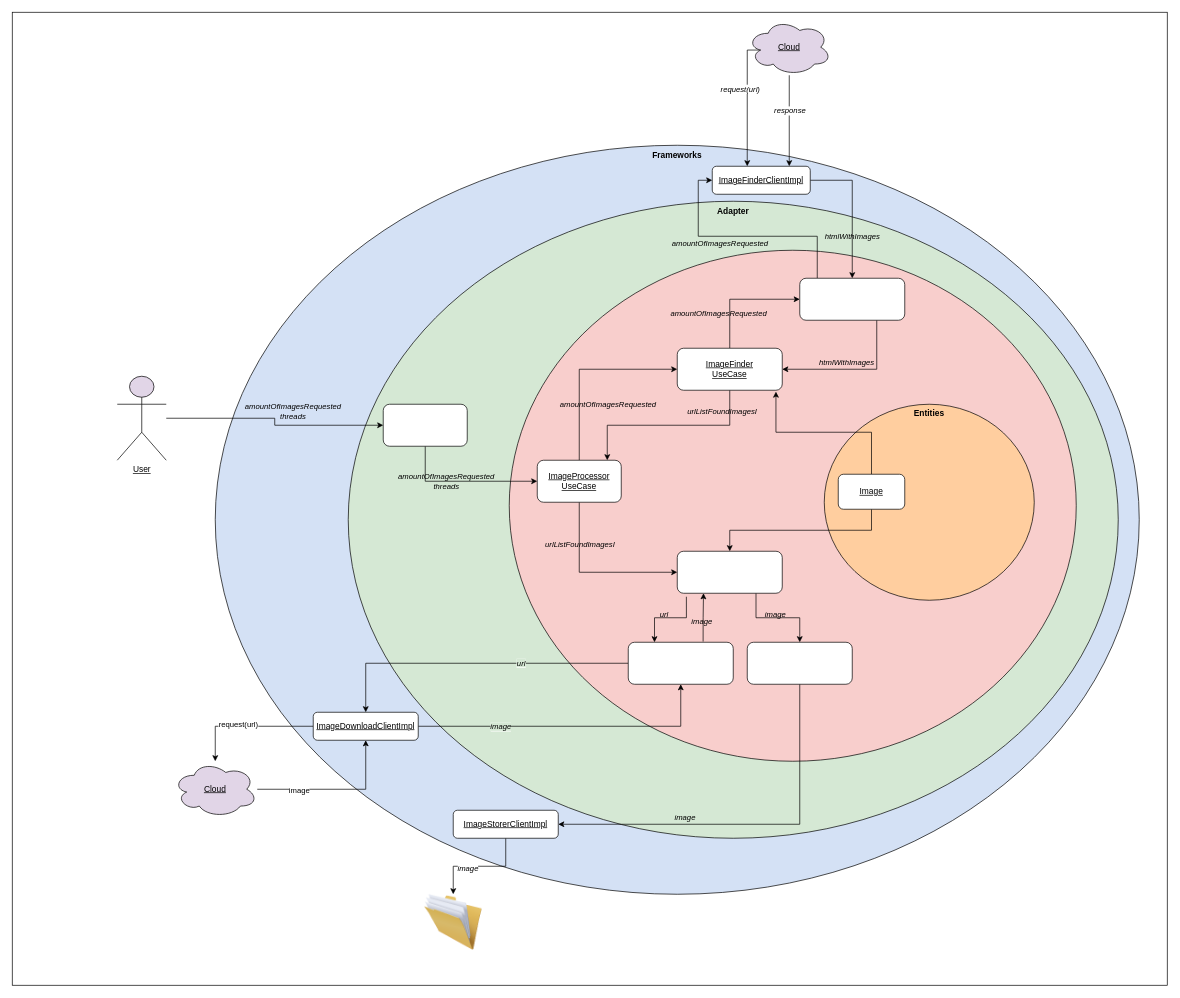
This 1180x998 diagram has some shape labels left out. Here are the shapes that lost their labels. From the top down, the box of each, then its label:
(799, 278, 905, 320): <Interface> ImageFinderClient
(383, 404, 467, 446): ImageProcessor Service
(509, 250, 1076, 761): UseCases
(677, 551, 782, 593): ImageDownloadAndStorer UseCase
(628, 642, 733, 684): <Interface> ImageDownloadClient
(747, 642, 852, 684): <Interface> ImageStorerClient
